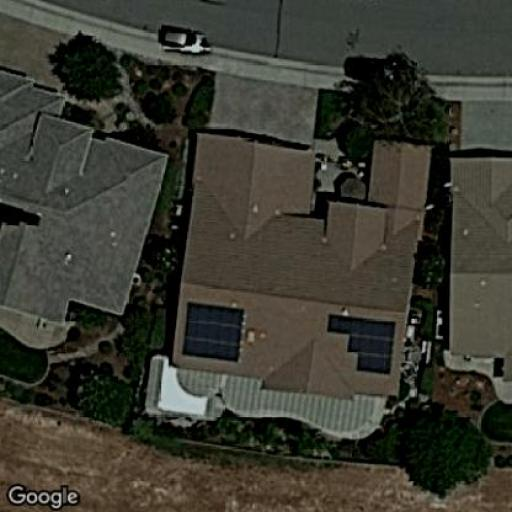solar-panel: (178, 300, 248, 364), (325, 312, 397, 374), (0, 201, 46, 232)
